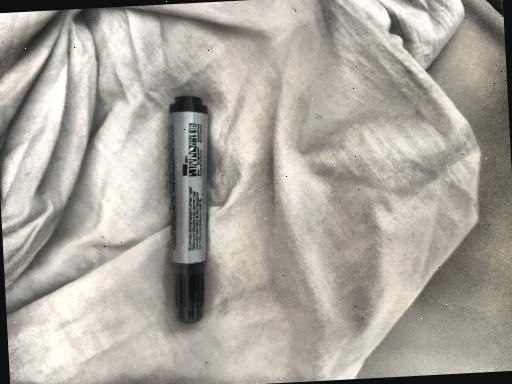marcador negro: (169, 96, 208, 323)
